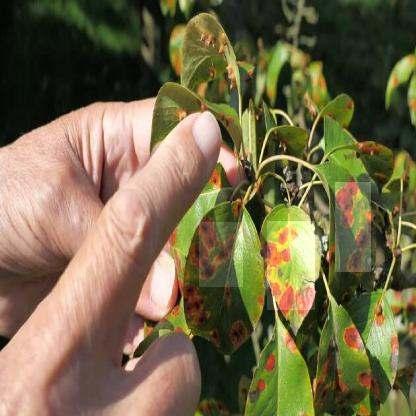black-spot: (267, 221, 315, 310), (336, 182, 372, 272), (199, 222, 243, 287)
